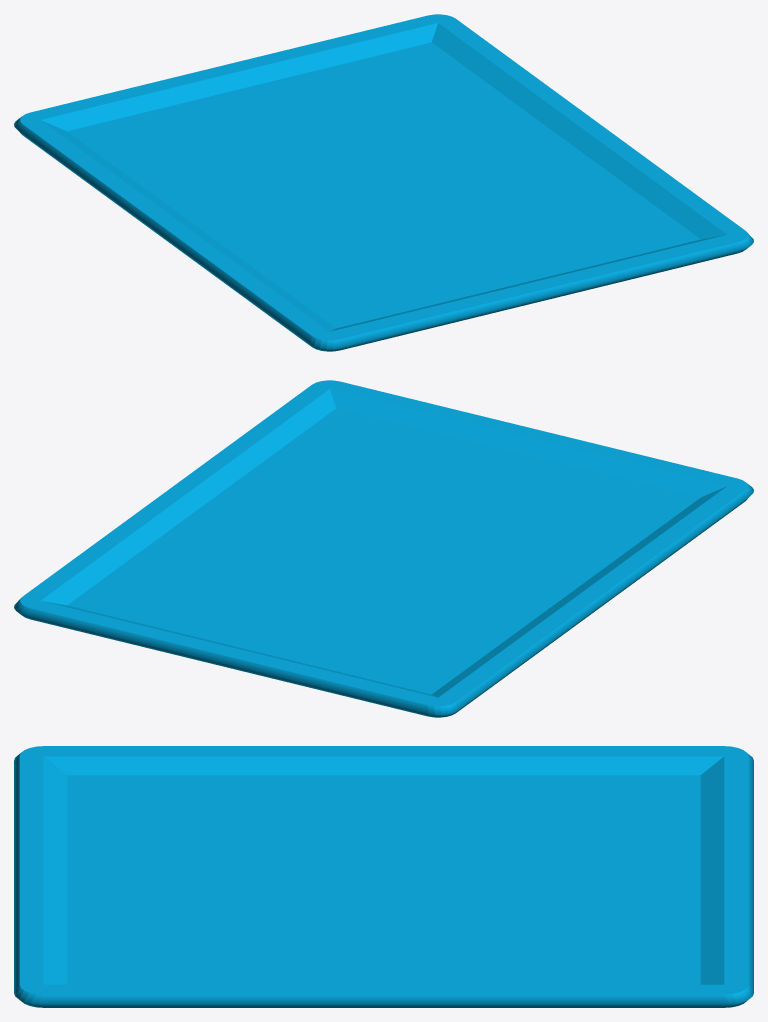
Rendered from Gas_Stove_Tray_02_Lod0.fbx.
The picture shows the model from 3 angles, top to bottom: view 1: azimuth 30°, elevation 25°; view 2: azimuth 150°, elevation 25°; view 3: azimuth 270°, elevation 25°; orthographic projection. The views are drawn at different scales.
Visible parts, largest first — view 1: Gas_Stove_Tray_02_Lod0; view 2: Gas_Stove_Tray_02_Lod0; view 3: Gas_Stove_Tray_02_Lod0.
Boxes of the visible parts, x1,y1,x2,y2 form: Gas_Stove_Tray_02_Lod0: [14, 14, 753, 351]; Gas_Stove_Tray_02_Lod0: [14, 380, 753, 717]; Gas_Stove_Tray_02_Lod0: [14, 746, 753, 1007].
Bounding box in the file's own units: 42.3 × 1.03 × 52.27.
